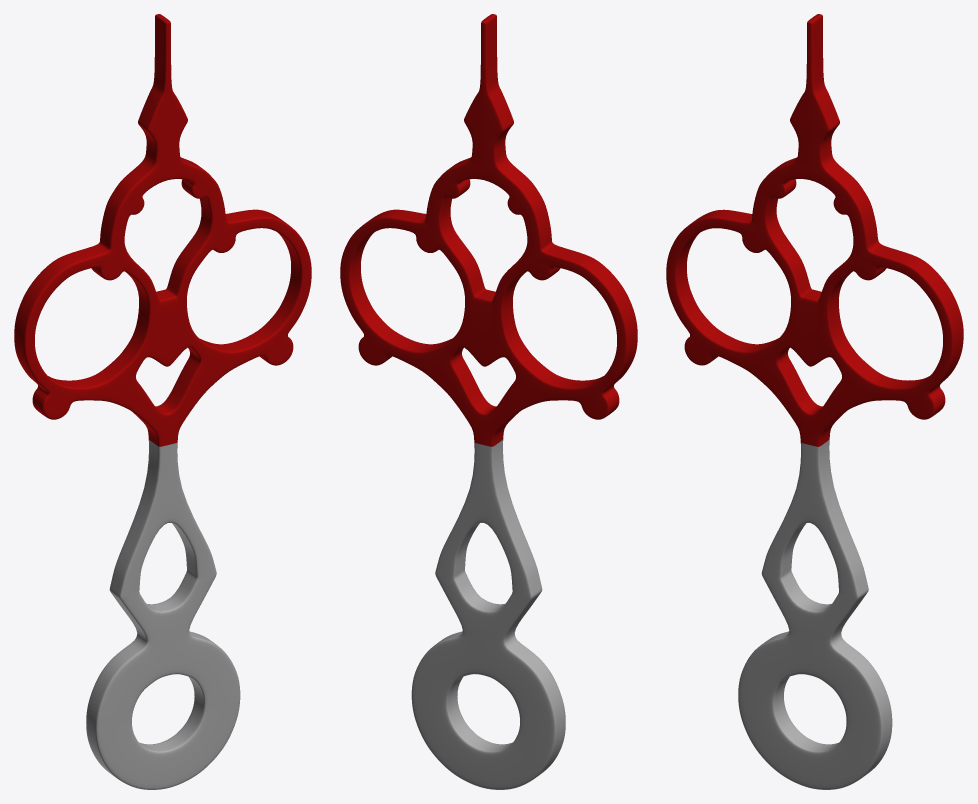
The model's file is MinuteHand1_high.fbx.
The picture shows the model from 3 angles, left to right: view 1: azimuth 30°, elevation 25°; view 2: azimuth 150°, elevation 25°; view 3: azimuth 330°, elevation 25°; orthographic projection.
Visible parts, largest first — view 1: MinuteHand_1_high; view 2: MinuteHand_1_high; view 3: MinuteHand_1_high.
Part boxes in pixels (x1,y1,x2,y2): MinuteHand_1_high: (14,14,311,789); MinuteHand_1_high: (340,14,637,789); MinuteHand_1_high: (666,14,963,789).
Size of the model in its own units: 787 by 2004 by 55.7.
